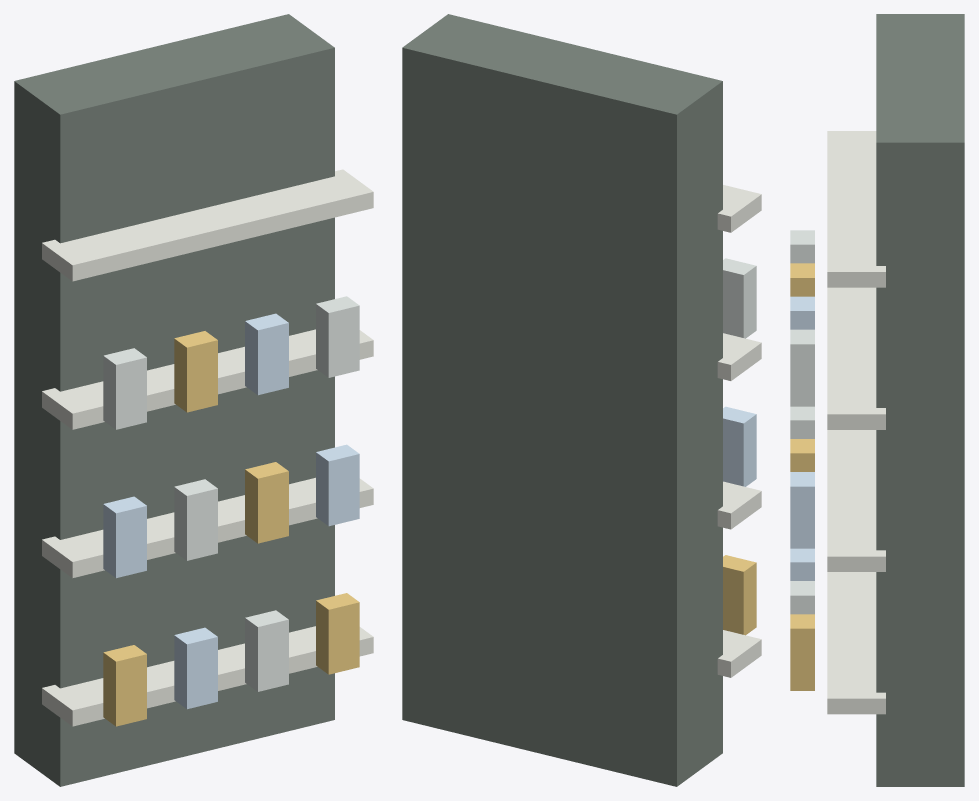
Rendered from medicine_shelf.glb.
3 views of the same model, side by side, from view 1: azimuth 30°, elevation 25°; view 2: azimuth 150°, elevation 25°; view 3: azimuth 270°, elevation 25° (orthographic). The views are drawn at different scales.
Visible parts, largest first — view 1: rack, shelf_3, shelf_1, shelf_0, shelf_2, product_2, product_5, product_10, product_11, product_4, product_7, product_0 (+5 smaller); view 2: rack, product_8, product_0, product_4, shelf_1, shelf_3, shelf_0, shelf_2; view 3: rack, shelf_3, shelf_0, shelf_2, shelf_1, product_11, product_3, product_7, product_2, product_8, product_9, product_10 (+3 smaller).
Boxes of the visible parts, bbox=[...] form: rack: bbox=[14, 14, 334, 786]; shelf_3: bbox=[42, 169, 373, 281]; shelf_1: bbox=[42, 477, 373, 578]; shelf_0: bbox=[42, 626, 373, 726]; shelf_2: bbox=[42, 329, 373, 429]; product_2: bbox=[245, 610, 288, 691]; product_5: bbox=[174, 479, 217, 560]; product_10: bbox=[245, 313, 288, 395]; product_11: bbox=[316, 296, 359, 377]; product_4: bbox=[103, 496, 146, 578]; product_7: bbox=[316, 444, 359, 526]; product_0: bbox=[103, 645, 146, 726]; rack: bbox=[402, 14, 722, 786]; product_8: bbox=[723, 258, 756, 338]; product_0: bbox=[723, 555, 756, 635]; product_4: bbox=[723, 406, 756, 486]; shelf_1: bbox=[717, 481, 761, 529]; shelf_3: bbox=[717, 185, 761, 232]; shelf_0: bbox=[717, 630, 761, 677]; shelf_2: bbox=[717, 333, 761, 380]; rack: bbox=[876, 14, 964, 786]; shelf_3: bbox=[827, 131, 885, 287]; shelf_0: bbox=[827, 572, 885, 714]; shelf_2: bbox=[827, 287, 885, 429]; shelf_1: bbox=[827, 430, 885, 571]; product_11: bbox=[790, 329, 814, 406]; product_3: bbox=[790, 614, 814, 690]; product_7: bbox=[790, 472, 814, 548]; product_2: bbox=[790, 581, 814, 614]; product_8: bbox=[790, 230, 814, 263]; product_9: bbox=[790, 263, 814, 296]; product_10: bbox=[790, 296, 814, 329].
Bounding box in the file's own units: 0.68 × 1.45 × 0.355.
